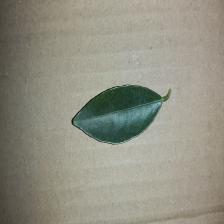healthy: (68, 76, 192, 154)
